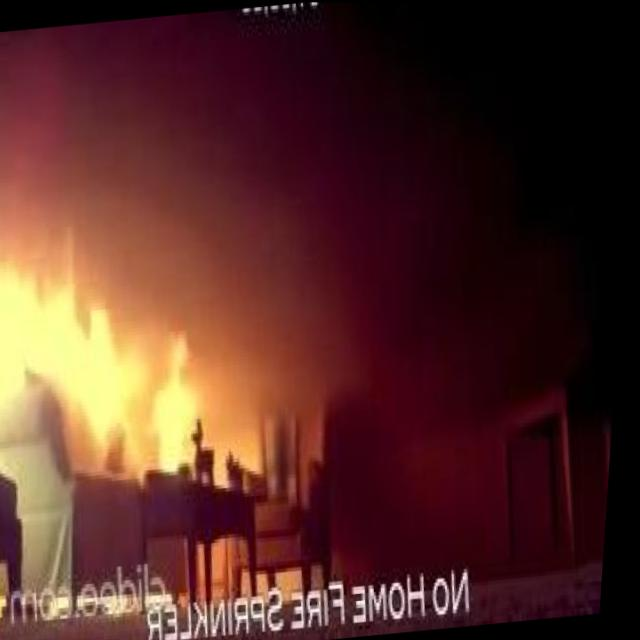fire: (0, 228, 168, 436), (55, 293, 164, 450), (144, 328, 209, 473)
